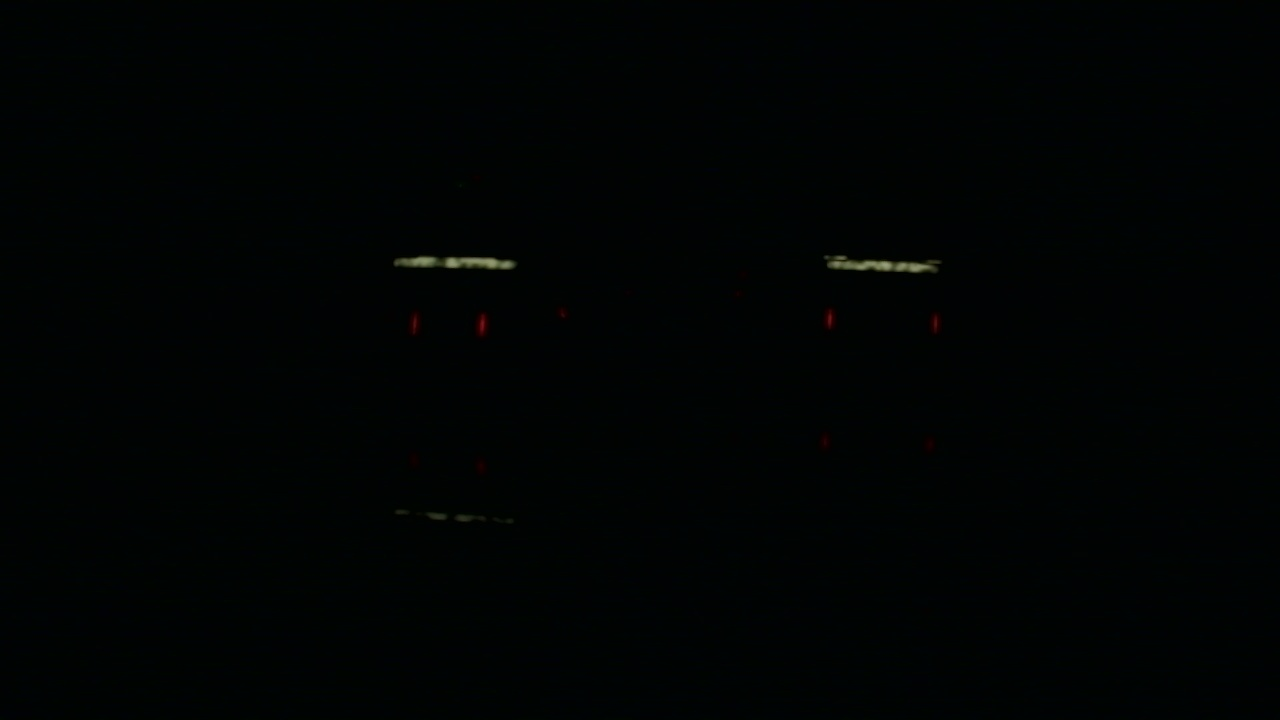lamp: (823, 307, 838, 328), (407, 310, 418, 331), (930, 307, 938, 332), (481, 310, 487, 337)
pair1: (408, 312, 487, 335)
pair2: (825, 308, 938, 333)
